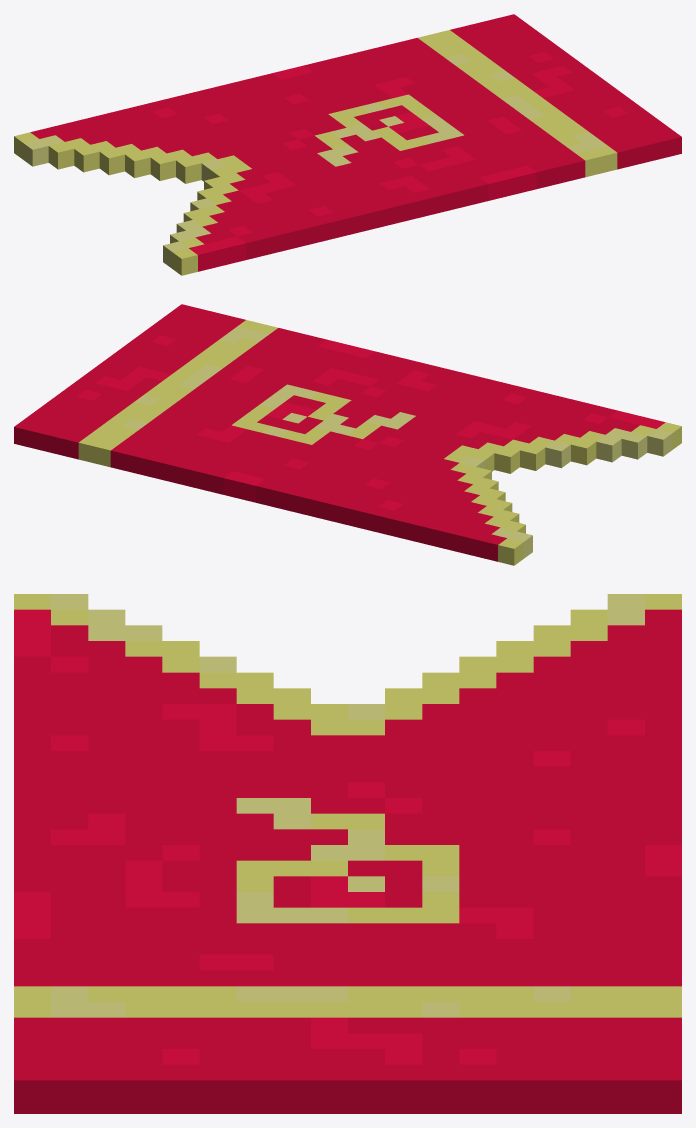
File: Banner3.obj
3 views of the same model, one above another, from view 1: azimuth 30°, elevation 25°; view 2: azimuth 150°, elevation 25°; view 3: azimuth 270°, elevation 25° (orthographic). The views are drawn at different scales.
Bounding box in the file's own units: 3.1 × 0.1 × 1.8.
1 material, 1 textured.
